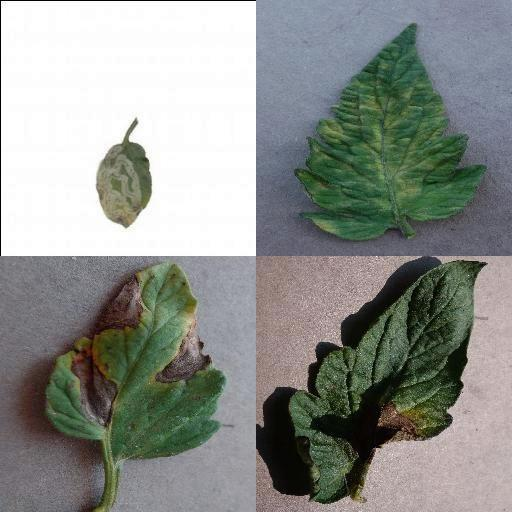Early Blight: (45, 264, 225, 462)
Late Blight: (288, 259, 488, 507)
Leaf Miner: (93, 140, 150, 228)
Leaf Mold: (296, 22, 490, 238)
